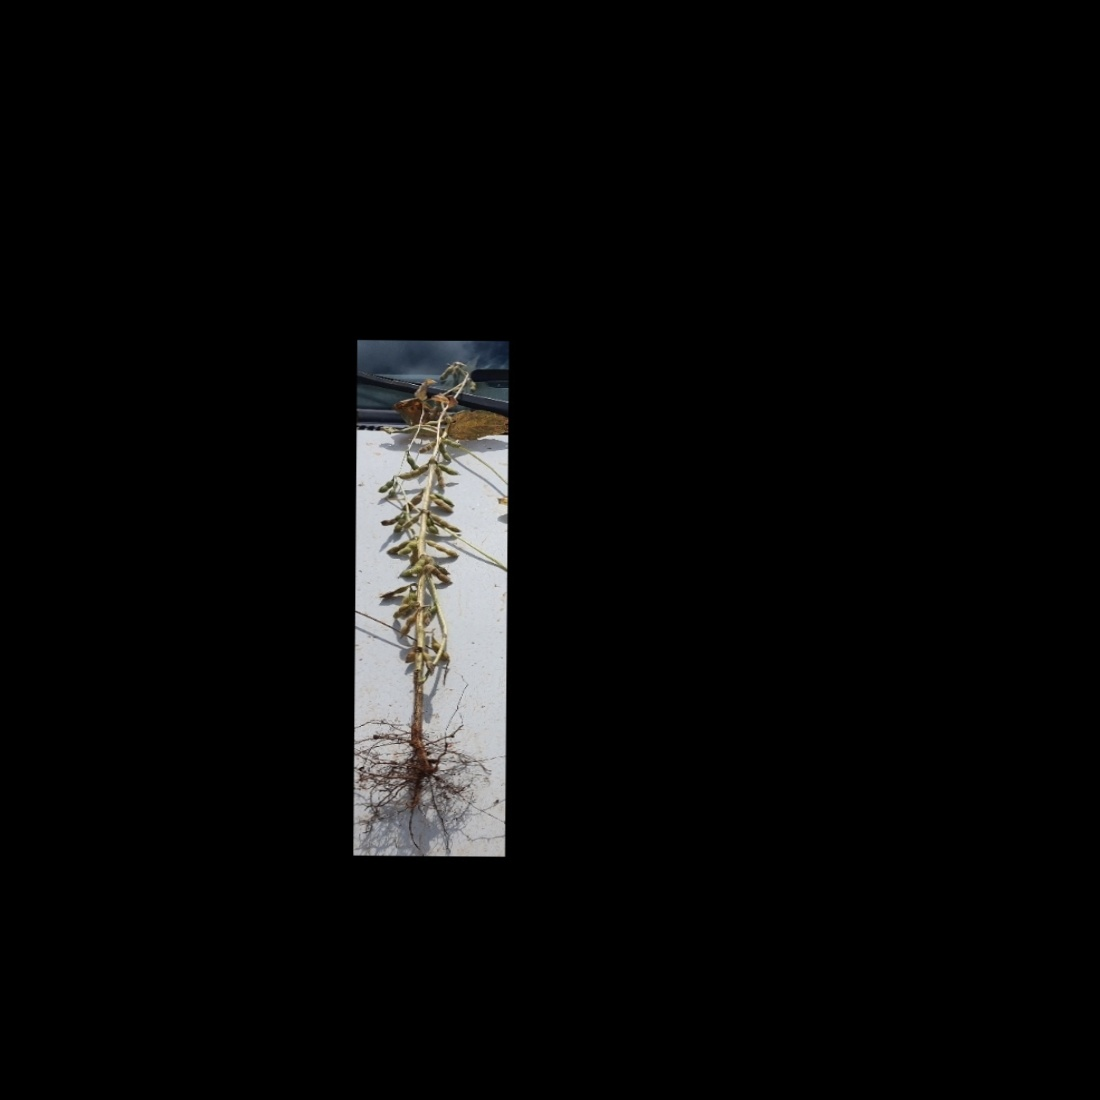pod: (428, 635, 454, 663), (426, 538, 459, 556), (432, 513, 461, 533), (376, 583, 406, 600), (398, 614, 416, 641), (397, 539, 420, 558), (398, 565, 425, 577), (403, 513, 421, 530), (425, 517, 440, 535), (392, 516, 407, 533), (376, 479, 394, 493)
soy: (371, 357, 499, 789)
